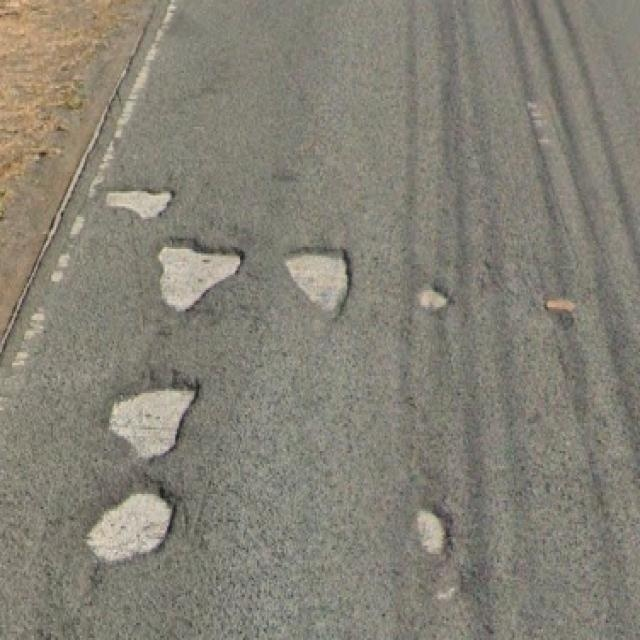pothole: (46, 470, 198, 597), (269, 217, 376, 366), (78, 352, 216, 466), (388, 470, 466, 620), (156, 223, 254, 341), (90, 151, 192, 258), (392, 264, 490, 328)
